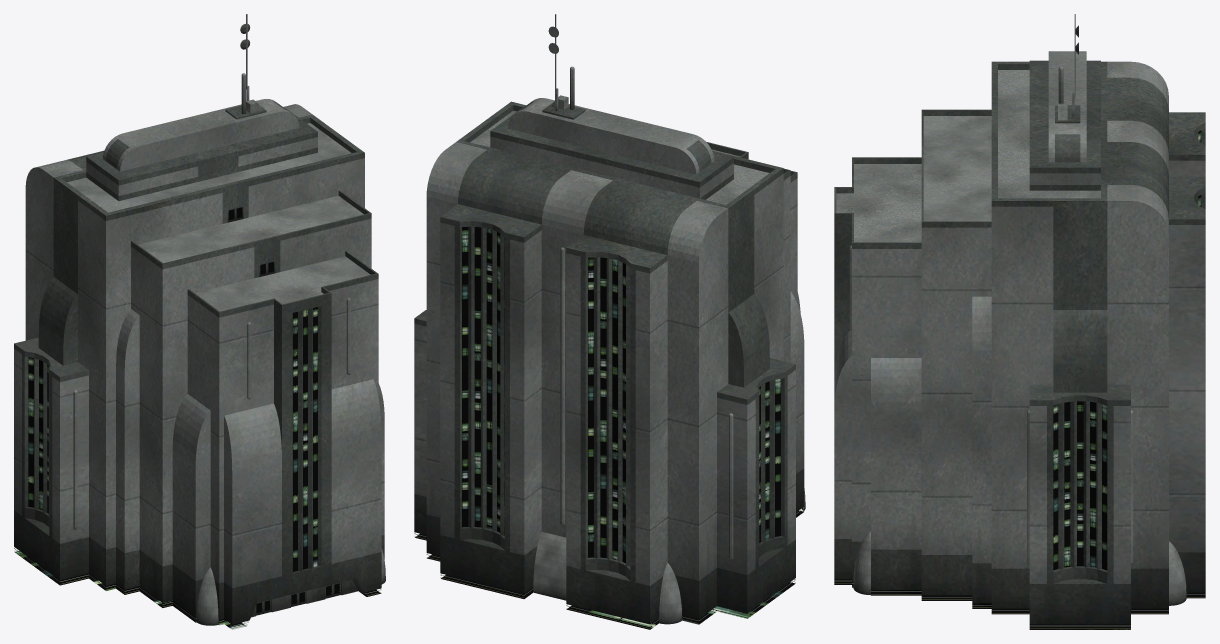
File: thm_corl_imprv_building_s04_l0.fbx
The picture shows the model from 3 angles, left to right: view 1: azimuth 30°, elevation 25°; view 2: azimuth 150°, elevation 25°; view 3: azimuth 270°, elevation 25°; orthographic projection. The views are drawn at different scales.
Visible parts, largest first — view 1: mesh_node; view 2: mesh_node; view 3: mesh_node.
Part boxes in pixels (x1,y1,x2,y2): mesh_node: (14,14,385,629); mesh_node: (414,14,805,629); mesh_node: (834,14,1205,629).
Bounding box in the file's own units: 63.59 × 97 × 58.59.
